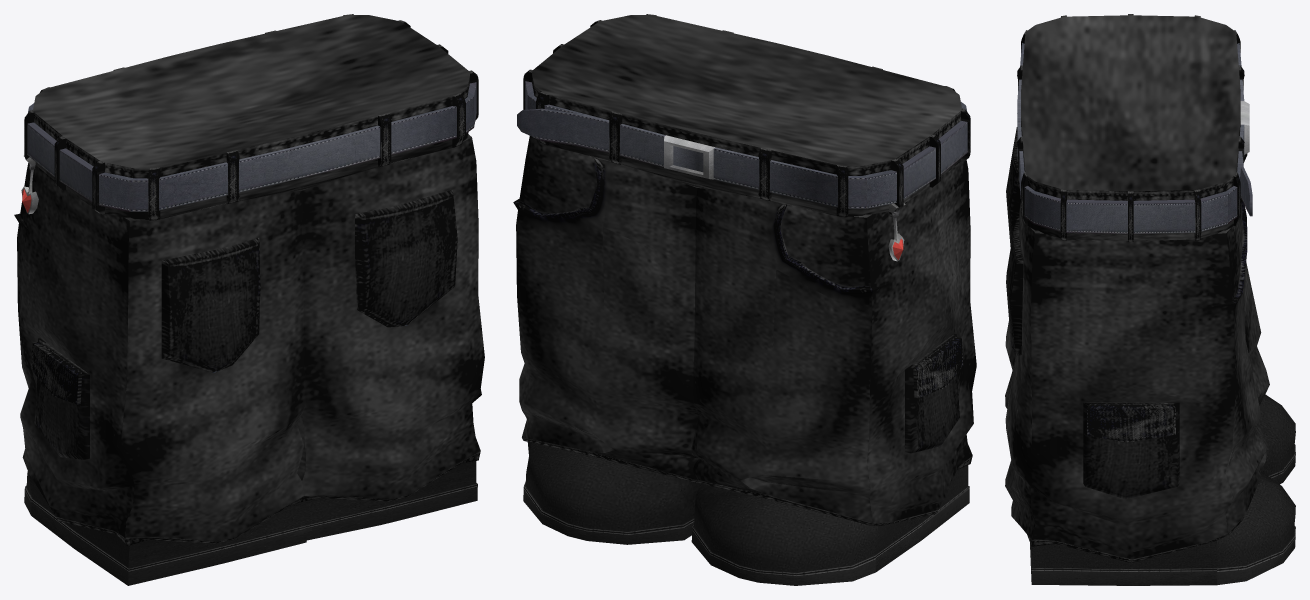
The picture shows the model from 3 angles, left to right: view 1: azimuth 30°, elevation 25°; view 2: azimuth 150°, elevation 25°; view 3: azimuth 270°, elevation 25°; orthographic projection. The views are drawn at different scales.
Parts seen in each view (by area): view 1: geometry_0; view 2: geometry_0; view 3: geometry_0.
Part boxes in pixels (x1,y1,x2,y2): geometry_0: [14, 14, 484, 585]; geometry_0: [513, 14, 976, 585]; geometry_0: [1005, 14, 1295, 585].
Size of the model in its own units: 2.36 by 2.31 by 1.53.
1 material, 1 textured.
